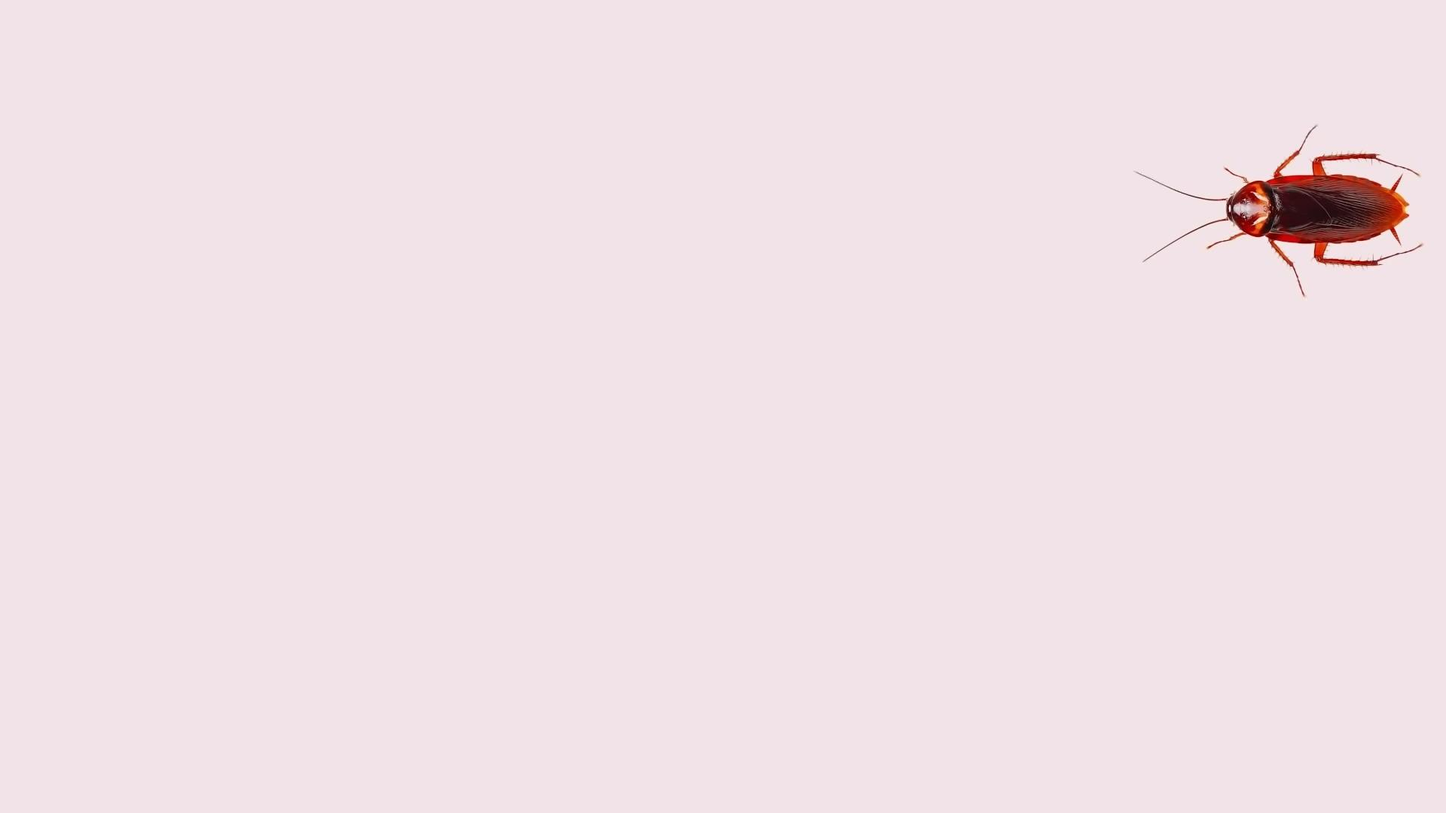cockroach: (1110, 131, 1428, 307)
